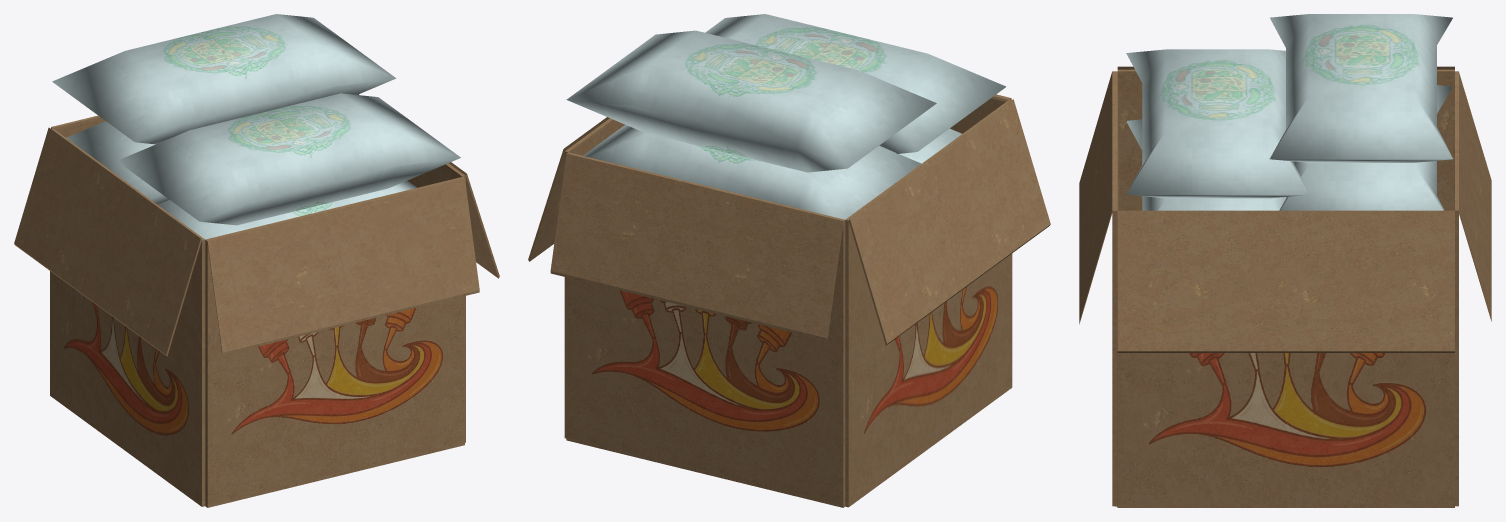
File: PickleBox.fbx
3 renders of one model, left to right at view 1: azimuth 30°, elevation 25°; view 2: azimuth 150°, elevation 25°; view 3: azimuth 270°, elevation 25°, orthographic. The views are drawn at different scales.
Visible parts, largest first — view 1: PickleBox.001; view 2: PickleBox.001; view 3: PickleBox.001.
Boxes of the visible parts, bbox=[...] form: PickleBox.001: bbox=[14, 14, 499, 507]; PickleBox.001: bbox=[528, 14, 1050, 507]; PickleBox.001: bbox=[1079, 14, 1491, 507].
Bounding box in the file's own units: 92.14 × 91.01 × 88.89.
